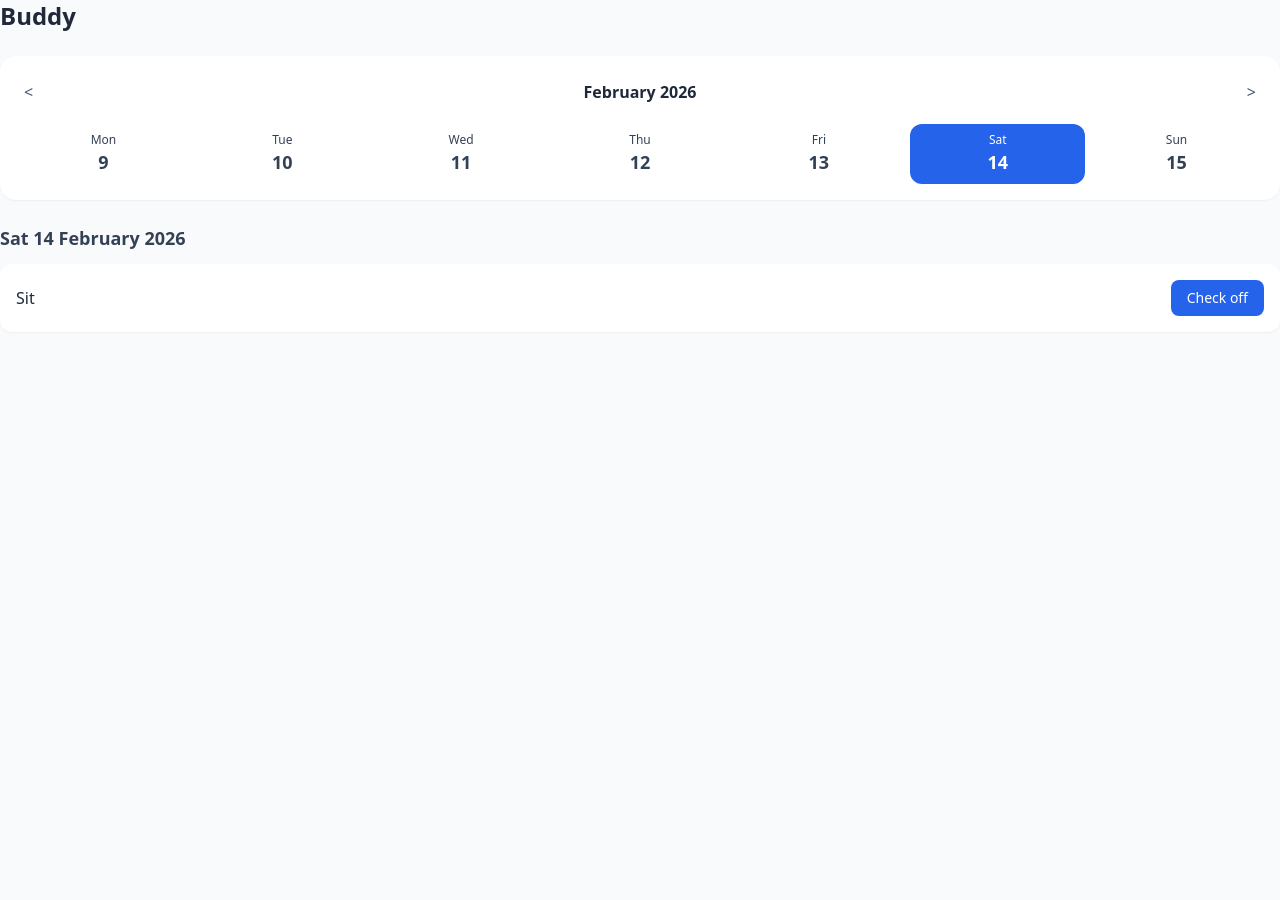
Progress › sheet closes on save
The width and height of the screenshot is (1280, 900).
Click the button "Check off": (1217, 298) [1171,280,1264,316]
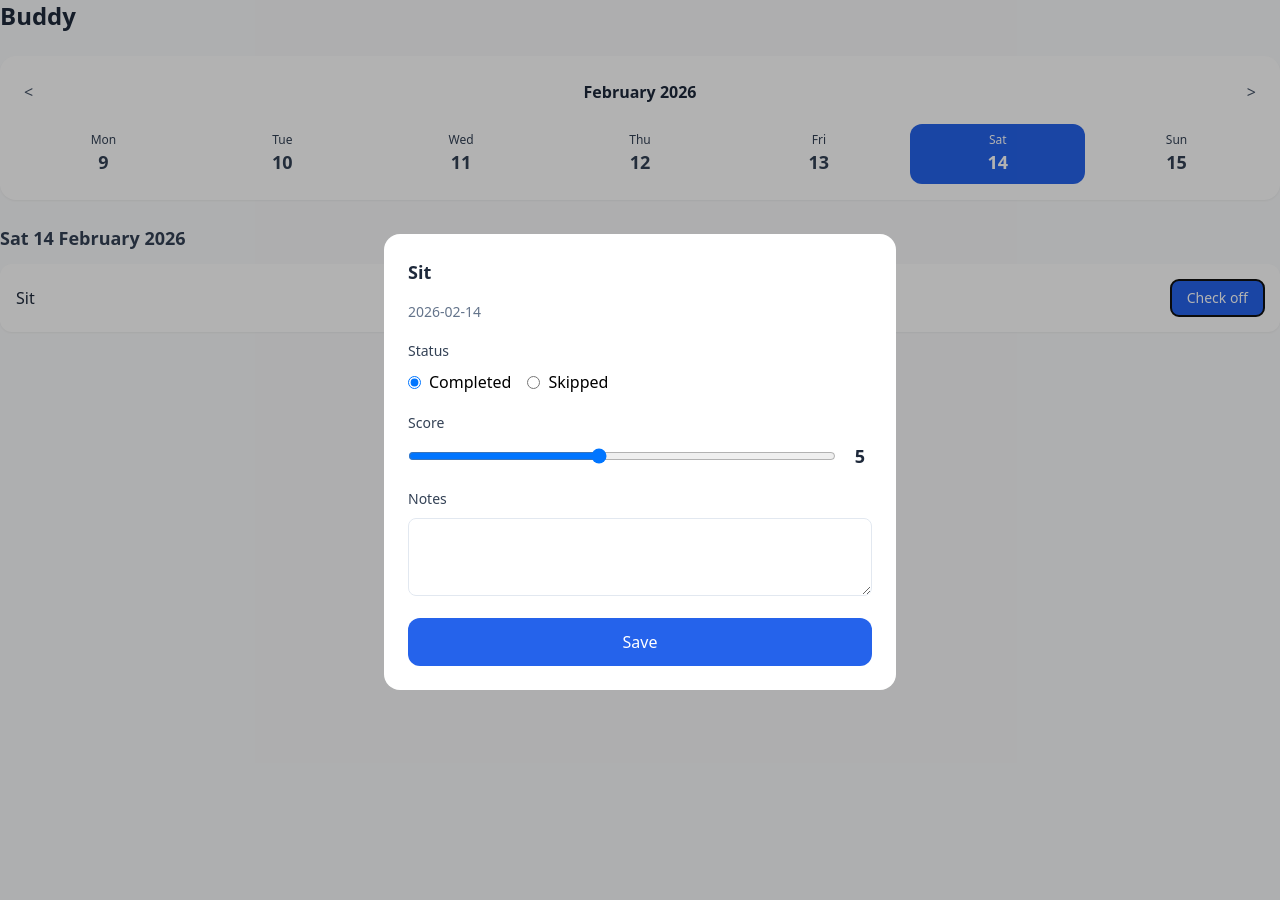
Expected: the button "Save" is shown
Click the button "Save": (640, 642) [408,618,872,666]
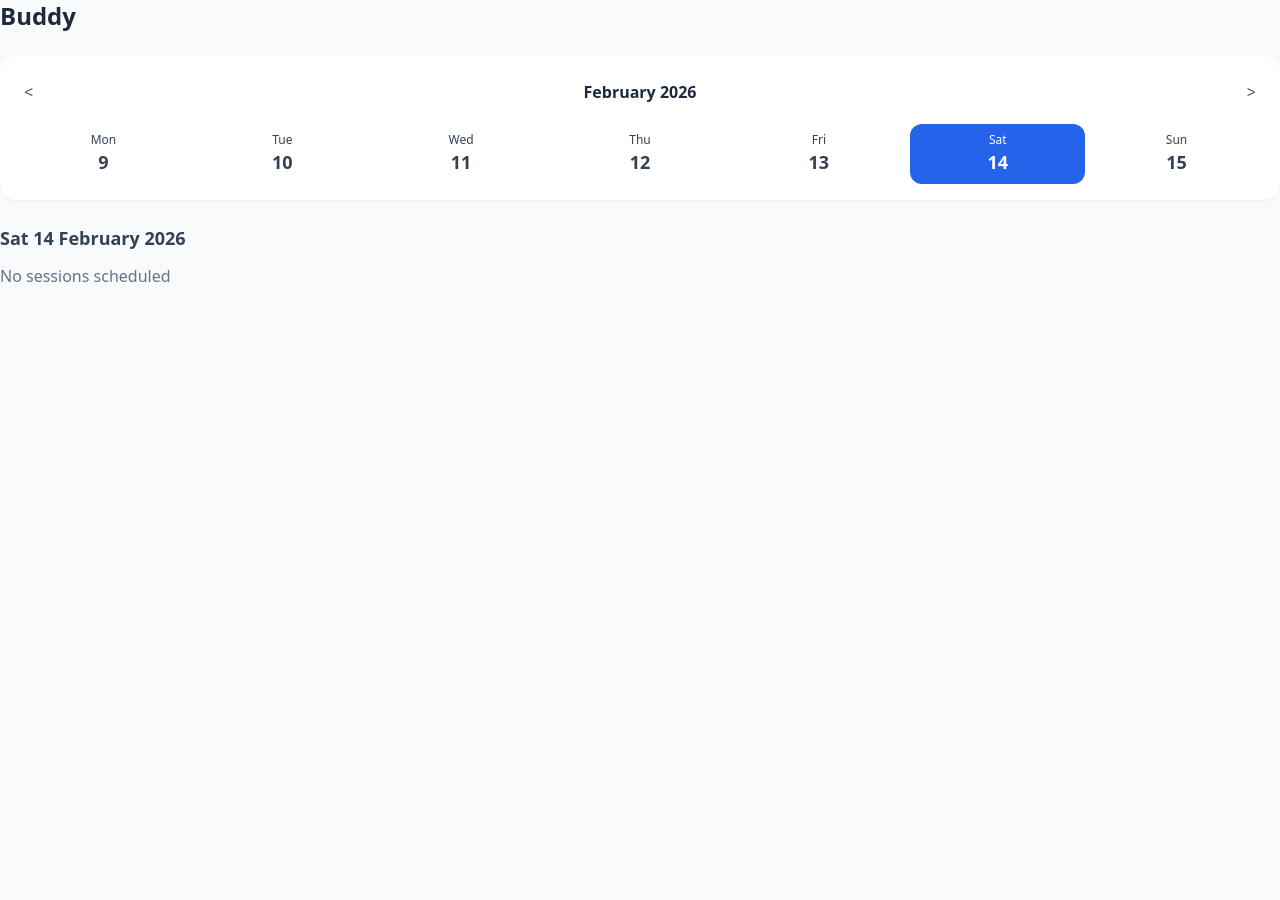
Expected: the button "Save" is gone
